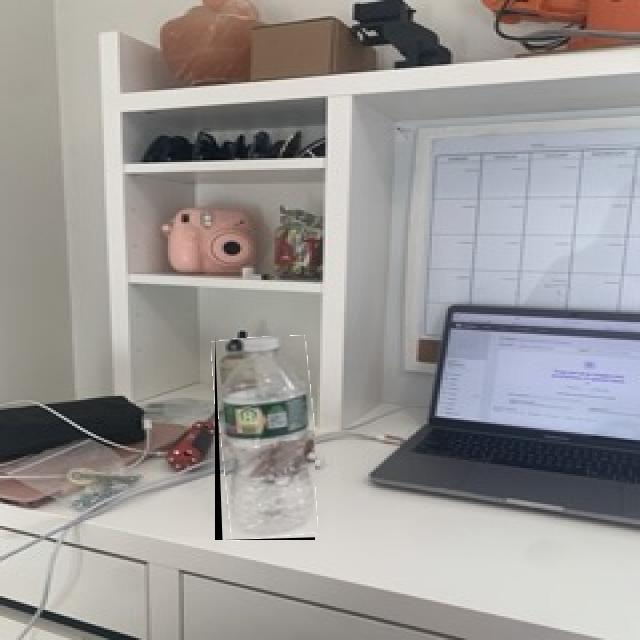water_bottle: (215, 336, 315, 540)
